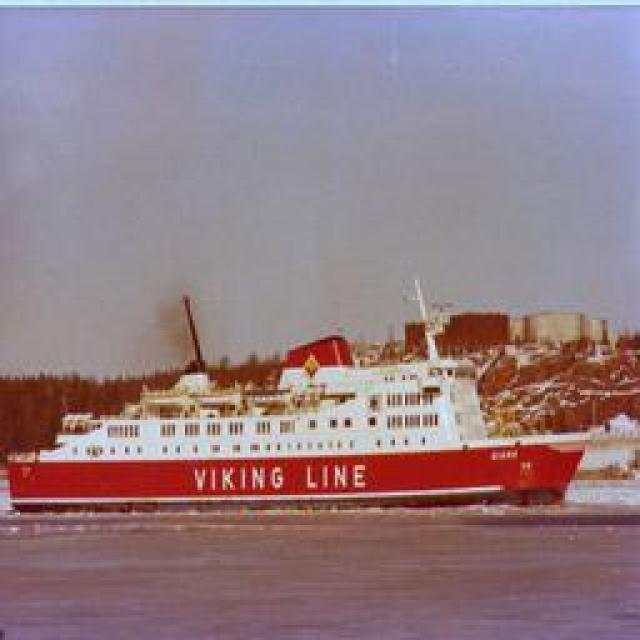ship2: (5, 272, 593, 514)
